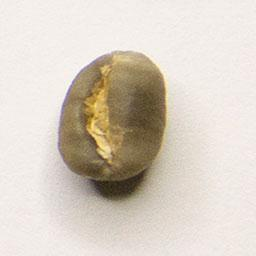peaberry: (54, 46, 171, 184)
